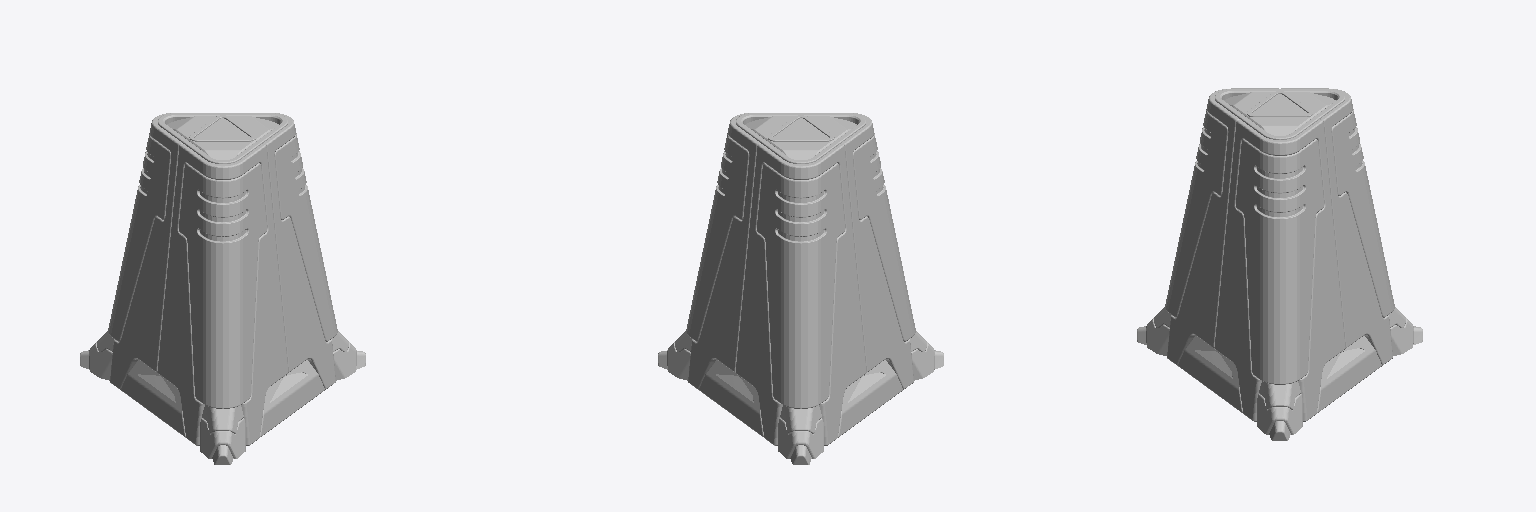
File: Props.obj
The picture shows the model from 3 angles: view 1: azimuth 30°, elevation 25°; view 2: azimuth 150°, elevation 25°; view 3: azimuth 270°, elevation 25°; orthographic projection.
Visible parts, largest first — view 1: 9, 8, 7, 1, 4, 3, 5, 6; view 2: 9, 8, 7, 1, 4, 3, 5, 6; view 3: 9, 8, 7, 1, 4, 3, 5, 6.
Part boxes in pixels (x1,y1,x2,y2): 9: (108, 133, 337, 408); 8: (110, 113, 335, 445); 7: (121, 360, 324, 437); 1: (167, 116, 278, 159); 4: (89, 342, 356, 458); 3: (158, 113, 287, 163); 5: (97, 331, 348, 433); 6: (80, 350, 365, 464); 9: (686, 133, 915, 408); 8: (688, 113, 913, 445); 7: (699, 360, 902, 437); 1: (745, 116, 856, 159); 4: (667, 342, 934, 458); 3: (736, 113, 865, 163); 5: (675, 331, 926, 433); 6: (658, 350, 943, 464); 9: (1165, 109, 1394, 384); 8: (1167, 88, 1392, 421); 7: (1178, 336, 1381, 412); 1: (1224, 92, 1335, 135); 4: (1146, 318, 1413, 434); 3: (1215, 89, 1344, 139); 5: (1154, 307, 1405, 409); 6: (1137, 326, 1422, 440).
Size of the model in its own units: 315 by 370 by 360.